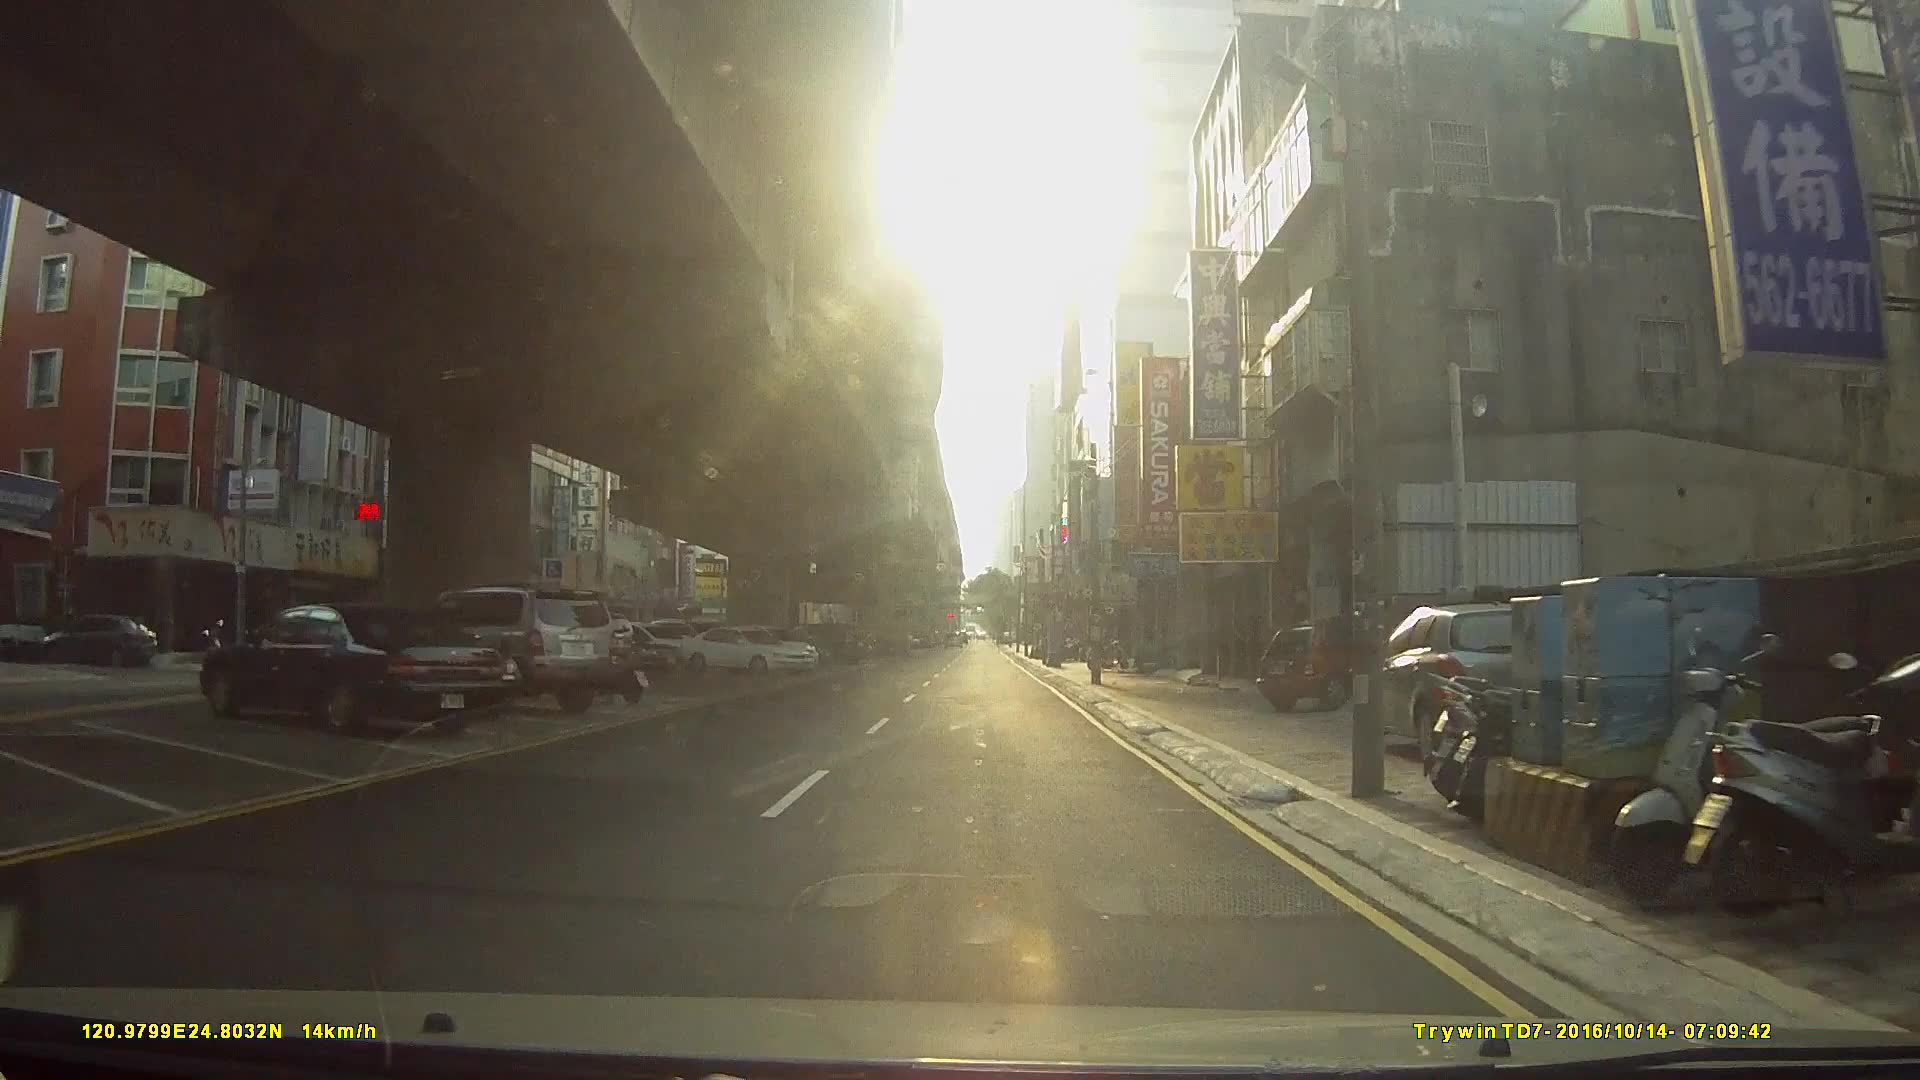vehicle: (196, 603, 506, 738), (1354, 600, 1577, 762), (411, 585, 618, 713), (1255, 615, 1398, 712), (676, 624, 820, 678), (37, 611, 158, 665)
